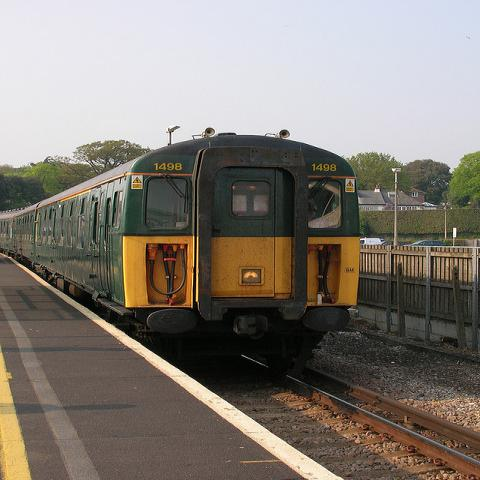car: (404, 240, 446, 246), (380, 240, 410, 246), (360, 238, 383, 245)
